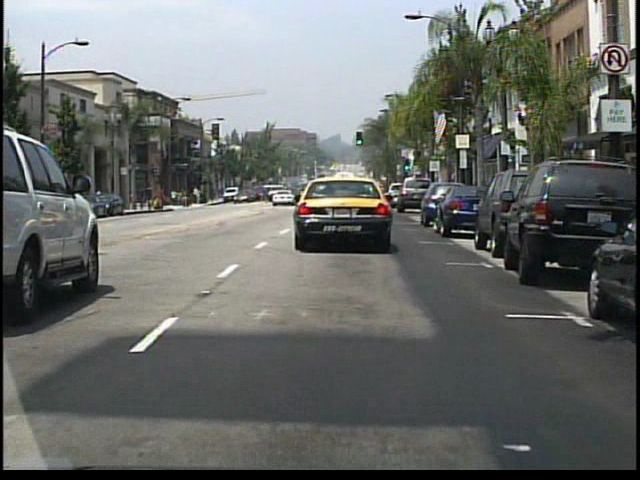person: (192, 189, 200, 209)
